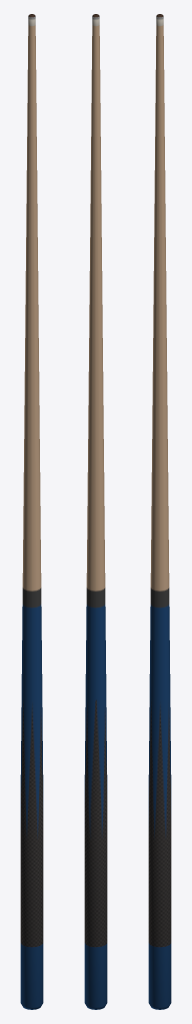
Rendered from Poolstick.glb.
The picture shows the model from 3 angles, left to right: view 1: azimuth 30°, elevation 25°; view 2: azimuth 150°, elevation 25°; view 3: azimuth 330°, elevation 25°; orthographic projection.
Visible parts, largest first — view 1: poolStick01; view 2: poolStick01; view 3: poolStick01.
Boxes of the visible parts, bbox=[...] form: poolStick01: bbox=[20, 14, 43, 1009]; poolStick01: bbox=[84, 14, 107, 1009]; poolStick01: bbox=[148, 14, 171, 1009].
Bounding box in the file's own units: 0.0308 × 1.47 × 0.0308.
1 material, 1 textured.
